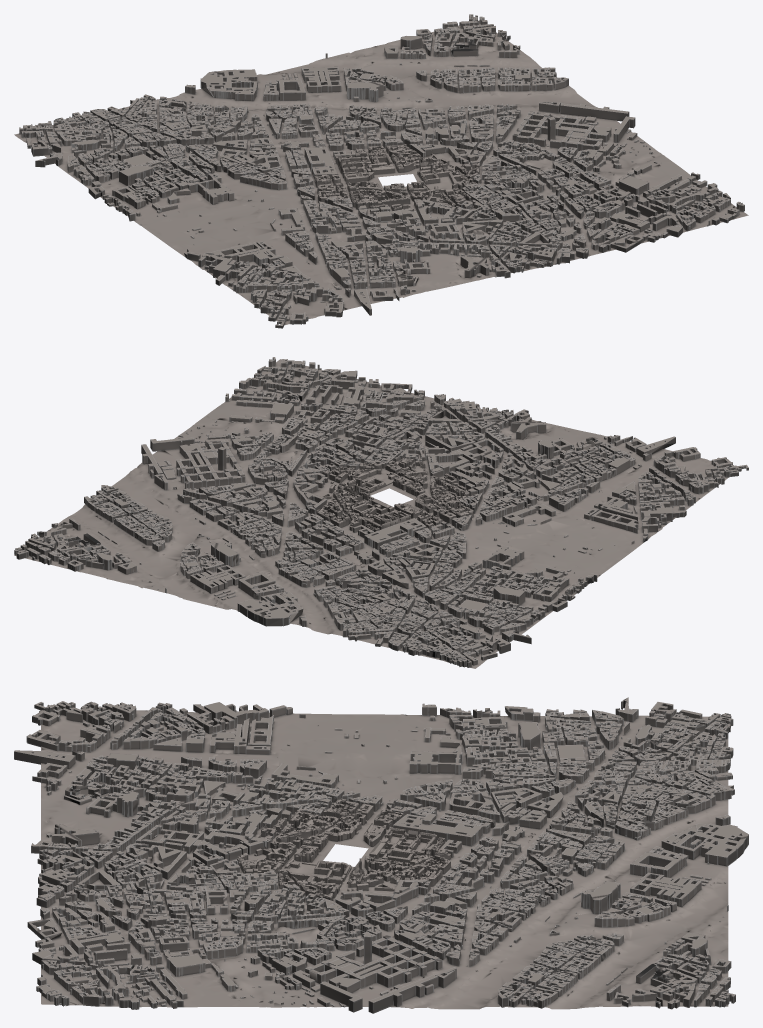
File: paris.glb
3 renders of one model, top to bottom at view 1: azimuth 30°, elevation 25°; view 2: azimuth 150°, elevation 25°; view 3: azimuth 270°, elevation 25°, orthographic. The views are drawn at different scales.
Parts seen in each view (by area): view 1: BATIMENT0000000241931889_1071.107, sol.003, BATIMENT0000000241931889_1071; view 2: BATIMENT0000000241931889_1071.107, sol.003, BATIMENT0000000241931889_1071; view 3: BATIMENT0000000241931889_1071.107, sol.003, BATIMENT0000000241931889_1071.
Boxes of the visible parts, left/top/right/bottom form: BATIMENT0000000241931889_1071.107: left=19, top=14, right=744, bottom=328; sol.003: left=14, top=20, right=748, bottom=325; BATIMENT0000000241931889_1071: left=314, top=144, right=479, bottom=211; BATIMENT0000000241931889_1071.107: left=14, top=357, right=748, bottom=667; sol.003: left=14, top=359, right=728, bottom=668; BATIMENT0000000241931889_1071: left=316, top=457, right=473, bottom=531; BATIMENT0000000241931889_1071.107: left=14, top=697, right=748, bottom=1013; sol.003: left=41, top=710, right=728, bottom=1009; BATIMENT0000000241931889_1071: left=237, top=798, right=450, bottom=900.
Bounding box in the file's own units: 2120 × 103 × 2138.
1 material, 1 textured.
